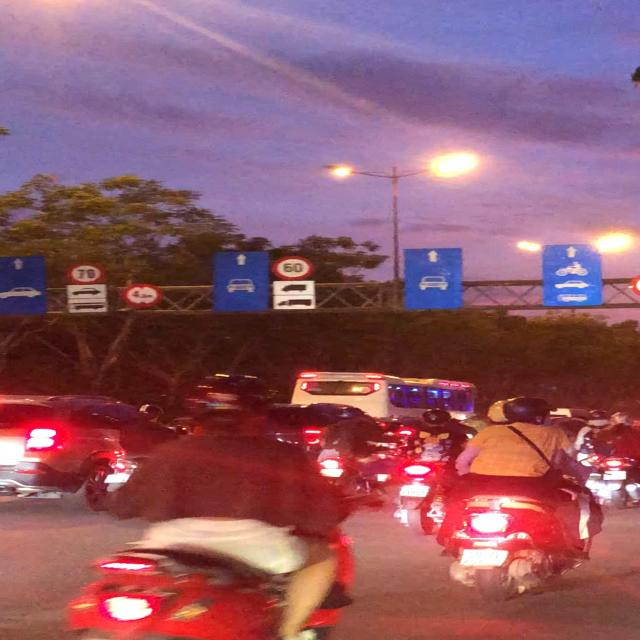Bien bao han che chieu cao: (122, 281, 166, 308)
Bien bao toc do toi da cho phep: (268, 253, 318, 280), (64, 260, 107, 285)
